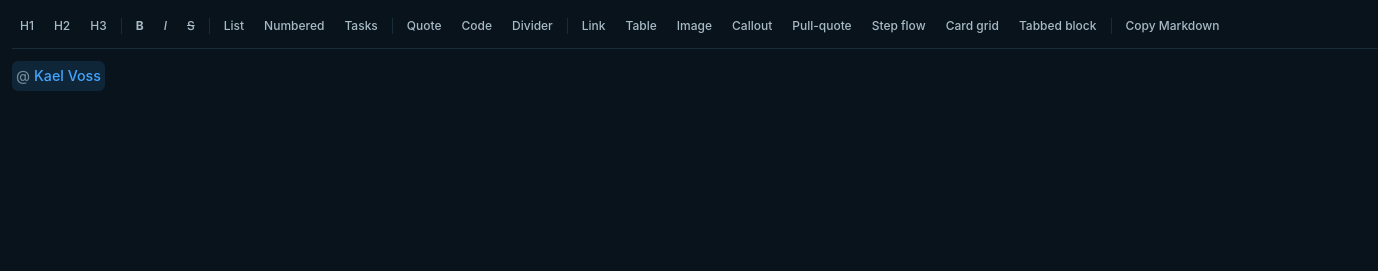
Test case: rendering a reference › shows the entity type, status and current fields on hover
This screenshot has width=1378, height=271.
Hover over the field labelled "@ Kael Voss": point(58, 76) [12,61,105,91]
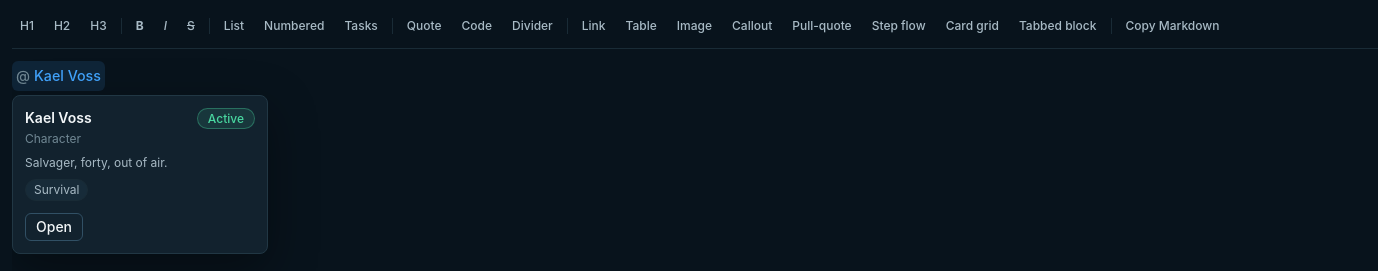
Expected: the tooltip shows "Character", [25,131,81,146]
Expected: the tooltip shows "Active", [208,110,244,126]
Expected: the tooltip shows "Salvager, forty, out of air.", [25,155,168,170]
